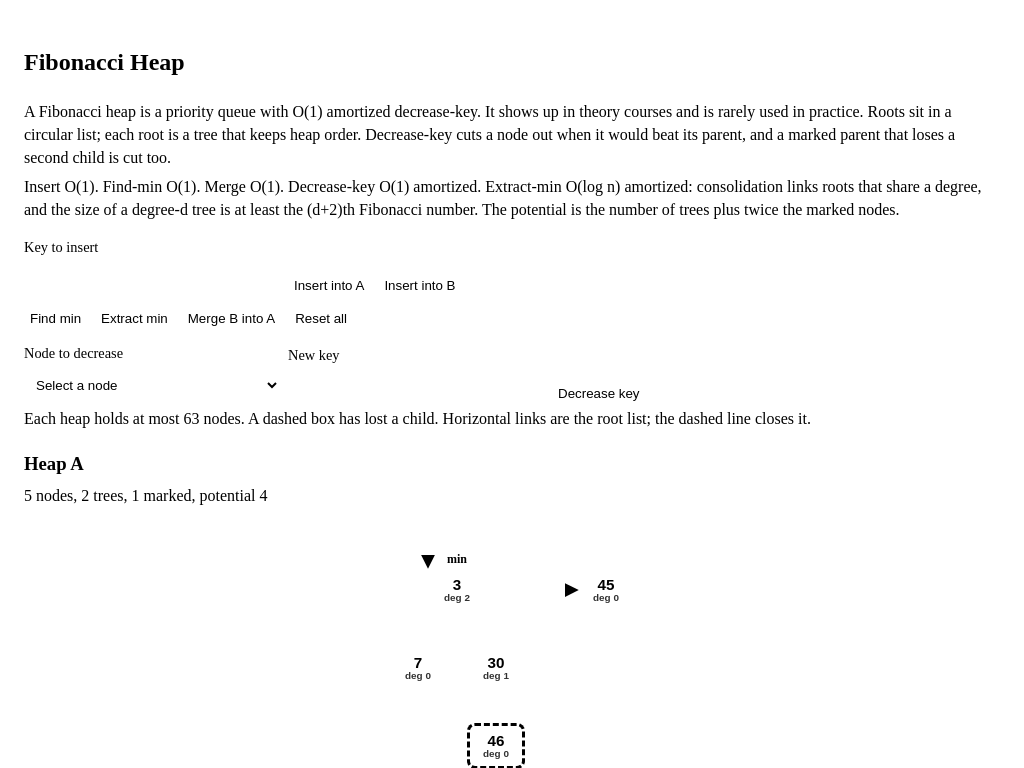
Test: extract-min lists the consolidation links
What coordinates should you click on to do the following:
click the button "Extract min"
I would click on:
 (134, 318)
Its box is [95,310,174,327].
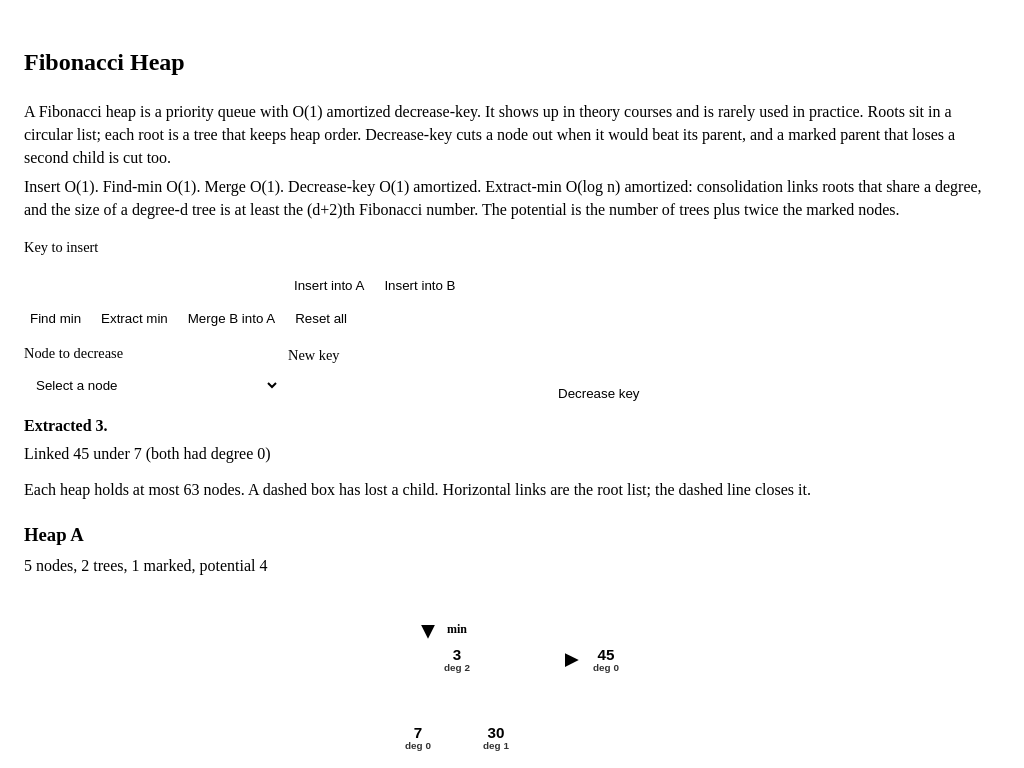
Expected: the text "Extracted 3." is shown, [24,417,108,434]
Expected: the element with test id "fibonacci-heap-steps" reads "Linked 45 under 7 (both had degree 0)", [24,445,271,462]
